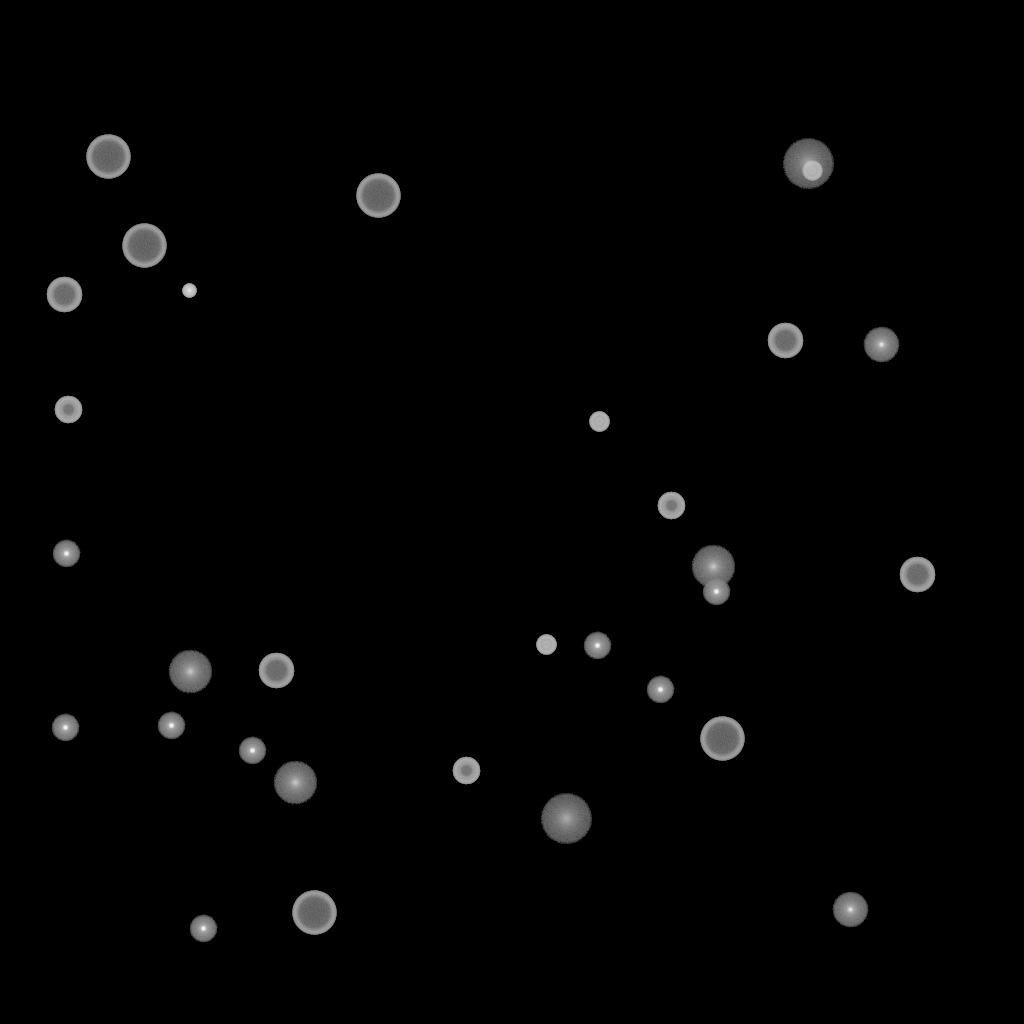depth:-10: (702, 578, 730, 606), (189, 915, 217, 943), (51, 714, 79, 742), (646, 676, 674, 704), (52, 540, 80, 568), (583, 632, 611, 660), (238, 737, 266, 765), (157, 712, 185, 740)
depth:-30: (182, 284, 196, 298)
depth:-40: (536, 635, 556, 655), (802, 161, 822, 181), (589, 412, 609, 432)
depth:-50: (54, 396, 82, 424), (452, 757, 480, 785), (657, 492, 685, 520)
depth:-60: (767, 323, 803, 359), (899, 557, 935, 593), (258, 653, 294, 689), (46, 277, 82, 313)
depth:-70: (292, 891, 336, 935), (86, 135, 130, 179), (700, 717, 744, 761), (122, 224, 166, 268), (356, 174, 400, 218)
depth:0: (832, 892, 868, 928), (863, 327, 899, 363)
depth:10: (168, 650, 212, 694), (691, 545, 735, 589), (273, 761, 317, 805)
depth:20: (540, 794, 592, 844), (782, 139, 834, 189)
